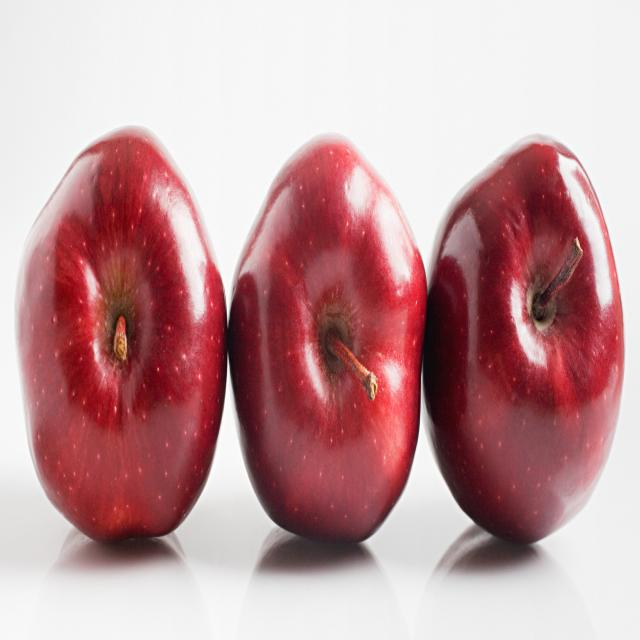Apple: (17, 133, 230, 557), (422, 138, 624, 546), (228, 136, 426, 547)
